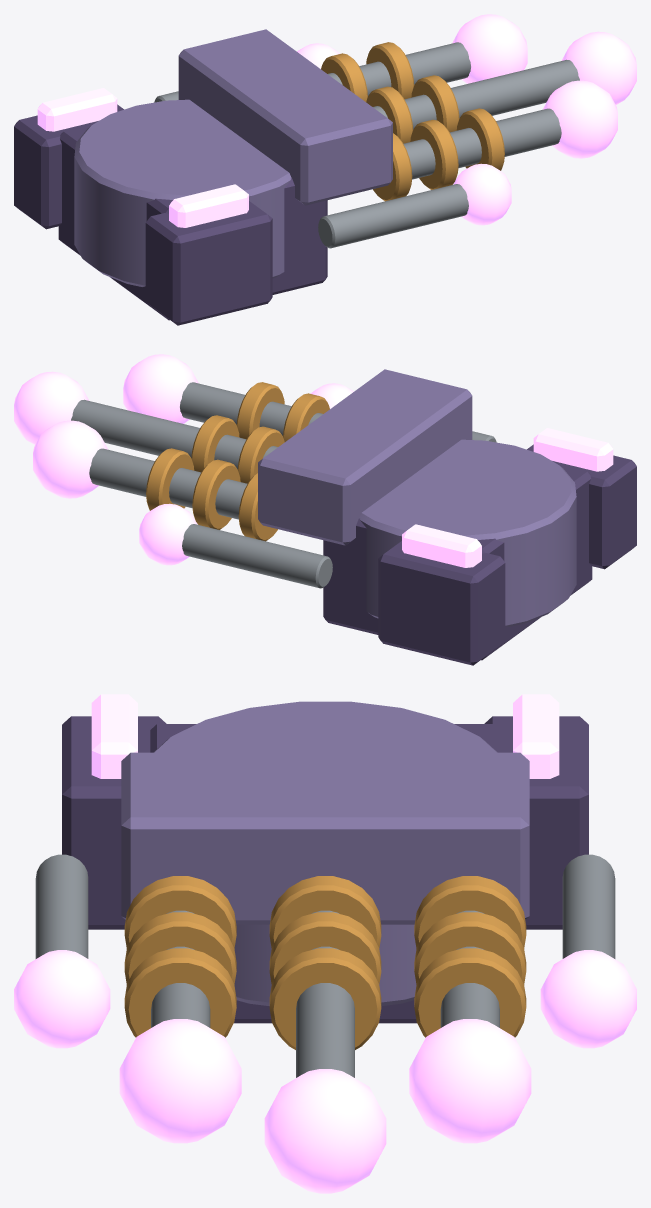
The model's file is arc_turret_l3.glb.
3 views of the same model, one above another, from view 1: azimuth 30°, elevation 25°; view 2: azimuth 150°, elevation 25°; view 3: azimuth 270°, elevation 25° (orthographic). The views are drawn at different scales.
Visible parts, largest first — view 1: Cylinder, Cube.001, Cube.002, Cube, Cylinder.013, Cube.004, Cylinder.005, Sphere, Cylinder.001, Sphere.002, Sphere.001, Cylinder.009 (+11 smaller); view 2: Cylinder, Cube.001, Cube.004, Cube, Cylinder.014, Cube.002, Cylinder.005, Sphere.002, Cylinder.009, Sphere, Sphere.001, Cylinder.001 (+11 smaller); view 3: Cube.001, Cylinder, Sphere, Sphere.002, Sphere.001, Cube.002, Cube.004, Sphere.003, Sphere.004, Cylinder.008, Cylinder.004, Cylinder.012 (+14 smaller).
Part boxes in pixels (x1,y1,x2,y2): Cylinder: (74,99,291,286); Cube.001: (178,29,392,205); Cube.002: (145,201,272,325); Cube: (58,124,327,320); Cylinder.013: (318,184,468,248); Cube.004: (14,104,123,229); Cylinder.005: (373,59,579,129); Sphere: (543,80,617,158); Cylinder.001: (403,108,561,179); Sphere.002: (452,14,527,83); Sphere.001: (561,31,636,104); Cylinder.009: (328,42,470,95); Cylinder: (359,439,576,626); Cube.001: (258,369,472,545); Cube.004: (378,541,505,665); Cube: (323,464,592,660); Cylinder.014: (182,524,332,588); Cube.002: (527,444,636,569); Cylinder.005: (71,399,277,469); Sphere.002: (33,420,107,498); Cylinder.009: (89,448,247,519); Sphere: (123,354,198,423); Sphere.001: (14,371,89,444); Cylinder.001: (180,382,322,435); Cube.001: (121,752,529,924); Cylinder: (153,701,497,1006); Sphere: (119,1019,241,1143); Sphere.002: (409,1019,531,1143); Sphere.001: (264,1069,386,1193); Cube.002: (62,716,166,929); Cube.004: (484,716,588,929); Sphere.003: (14,950,110,1048); Sphere.004: (540,950,636,1048); Cylinder.008: (269,948,381,1049); Cylinder.004: (124,948,236,1037); Cylinder.012: (414,948,526,1037).
Bounding box in the file's own units: 1.52 × 0.42 × 0.9462.
